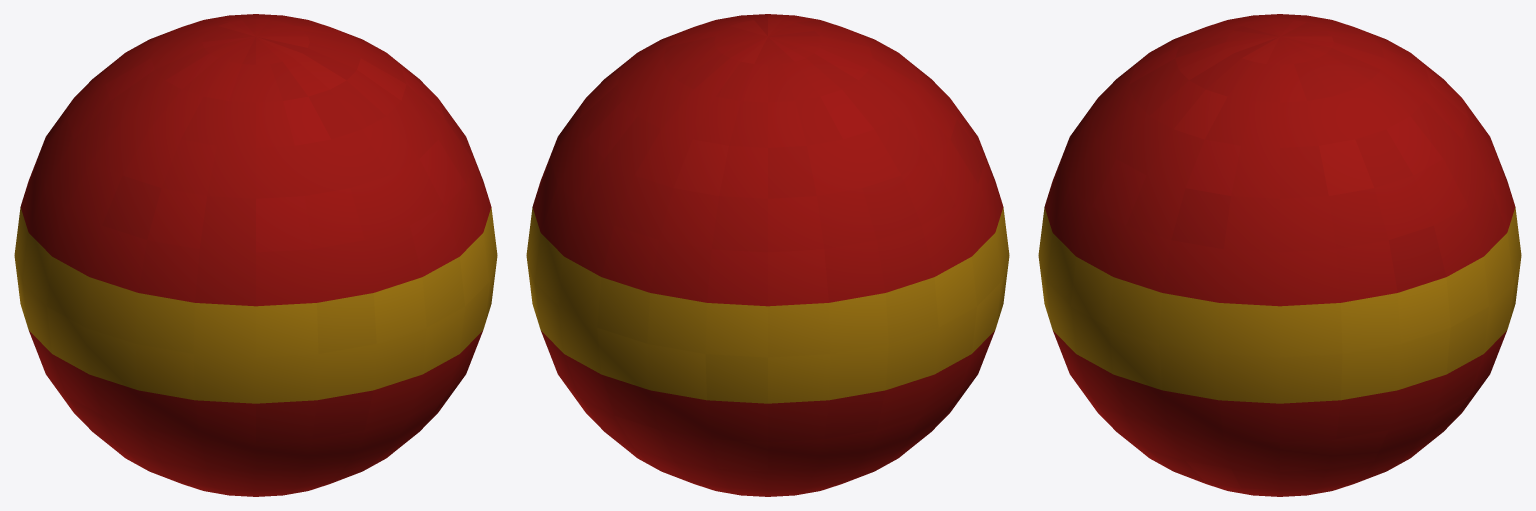
The model's file is rubber_ball.glb.
3 renders of one model, left to right at view 1: azimuth 30°, elevation 25°; view 2: azimuth 150°, elevation 25°; view 3: azimuth 270°, elevation 25°, orthographic.
Visible parts, largest first — view 1: Mesh; view 2: Mesh; view 3: Mesh.
Part boxes in pixels (left/top/right/bottom): Mesh: left=14, top=14, right=497, bottom=496; Mesh: left=526, top=14, right=1009, bottom=496; Mesh: left=1038, top=14, right=1521, bottom=496.
Size of the model in its own units: 0.6 by 0.6 by 0.6.
